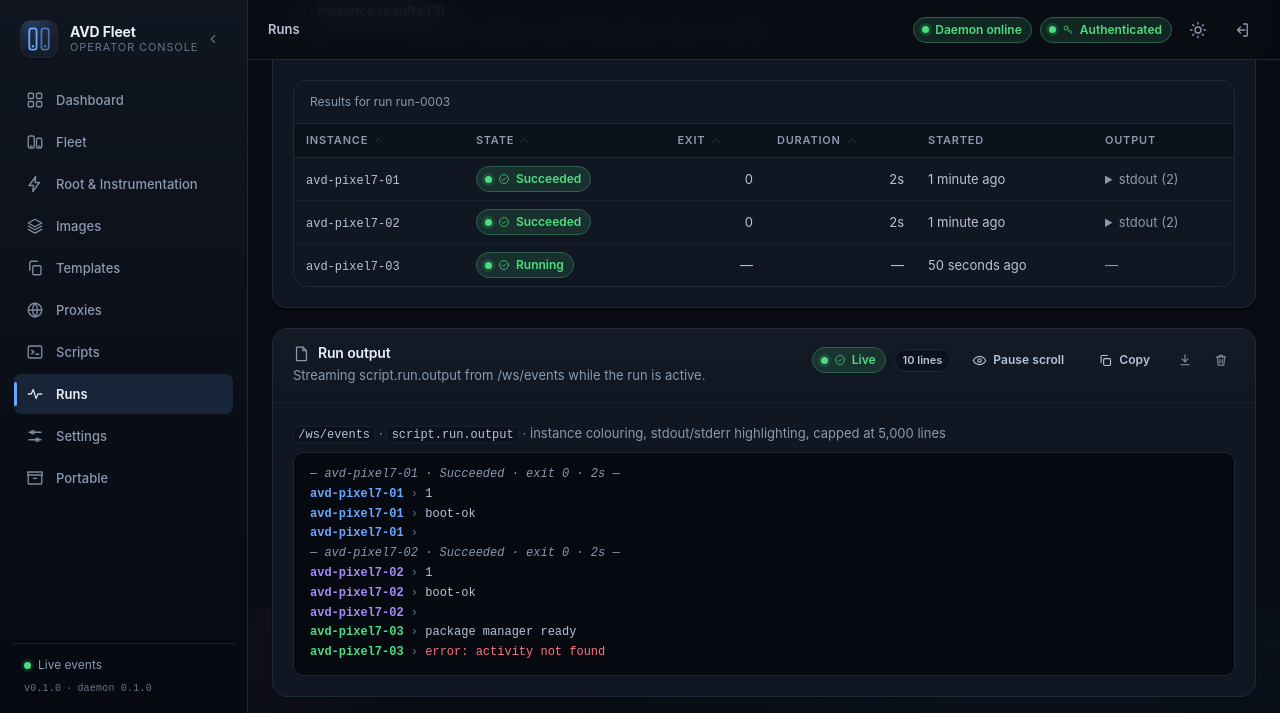
Runs page › appends live script.run.output lines, pauses/clears, and cancels the run
Later steps or results of the test are not shown.
(page scrolled)
Check: the text "Live" is shown, box x1=852 y1=351 x2=876 y2=369
Check: the element named "run run-0003 output" shows "package manager ready", box x1=425 y1=625 x2=576 y2=639
Click the button "Pause scroll" at x=1018, y=360, box x1=959 y1=345 x2=1077 y2=375
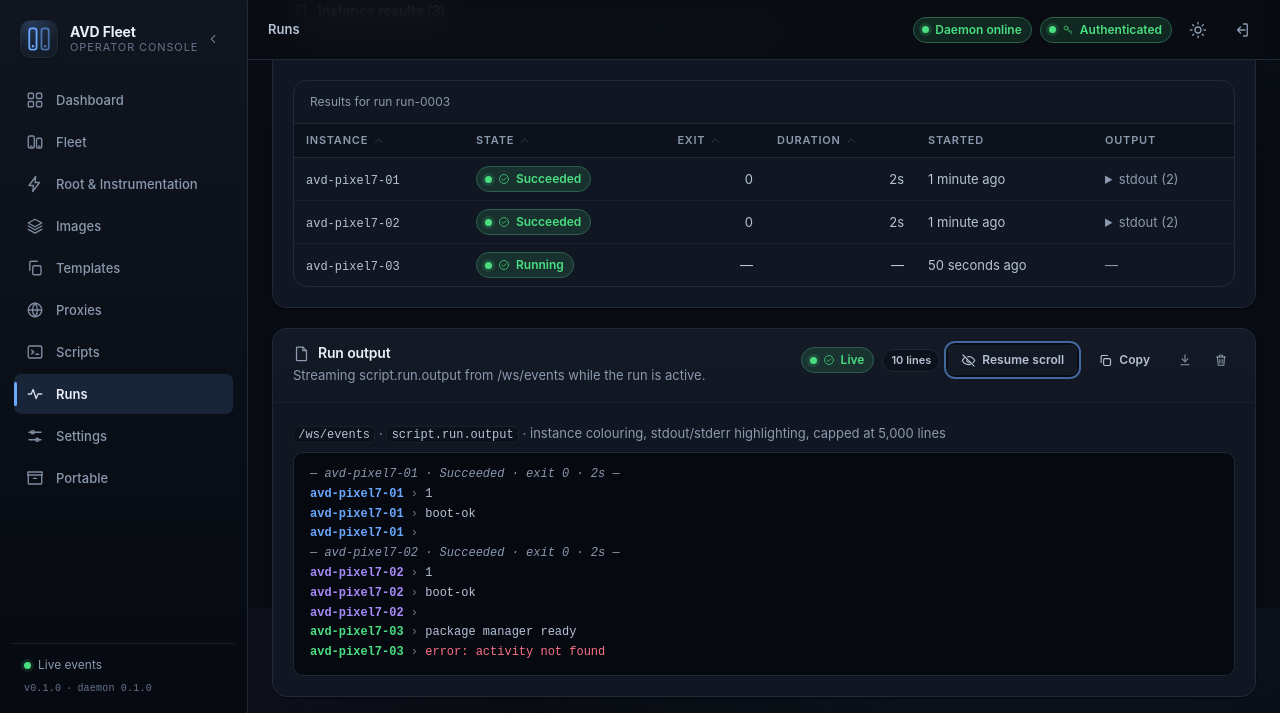
Check: the button "Resume scroll" is shown
Click the button "Resume scroll" at x=1013, y=360, box x1=948 y1=345 x2=1077 y2=375
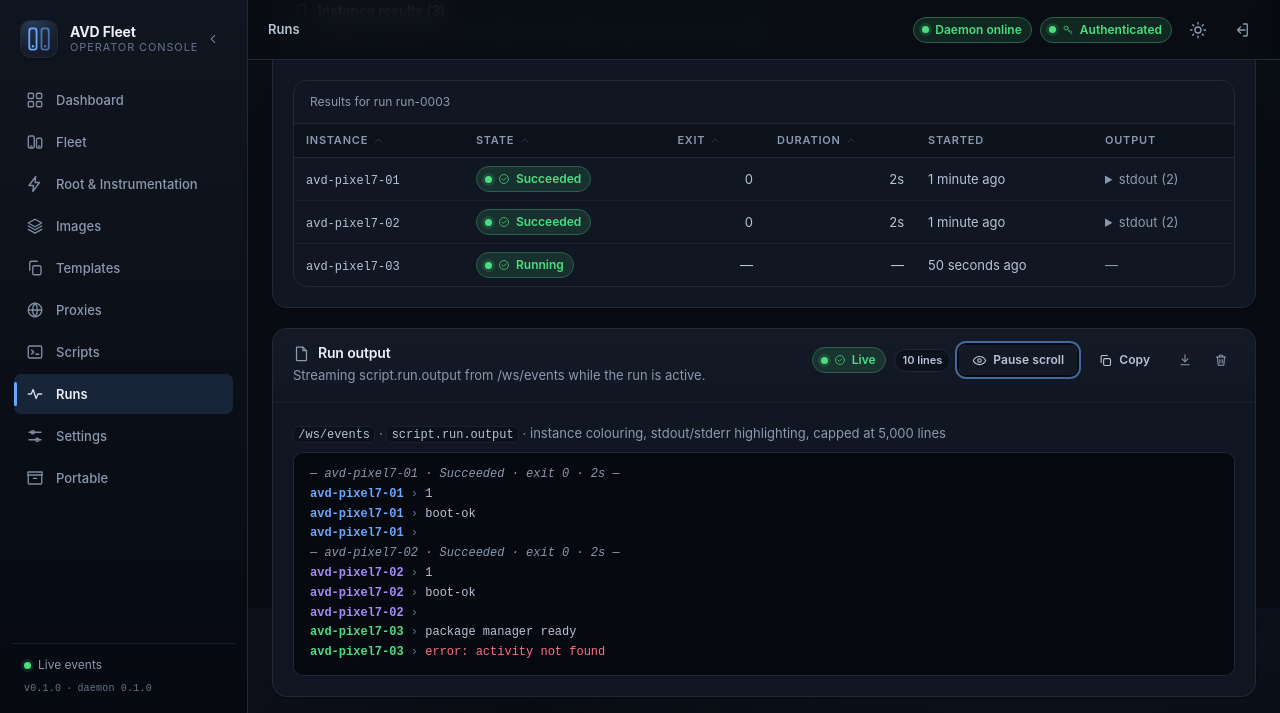
Click the button named "Clear run output" at x=1221, y=360, box x1=1207 y1=346 x2=1235 y2=374
(page scrolled)
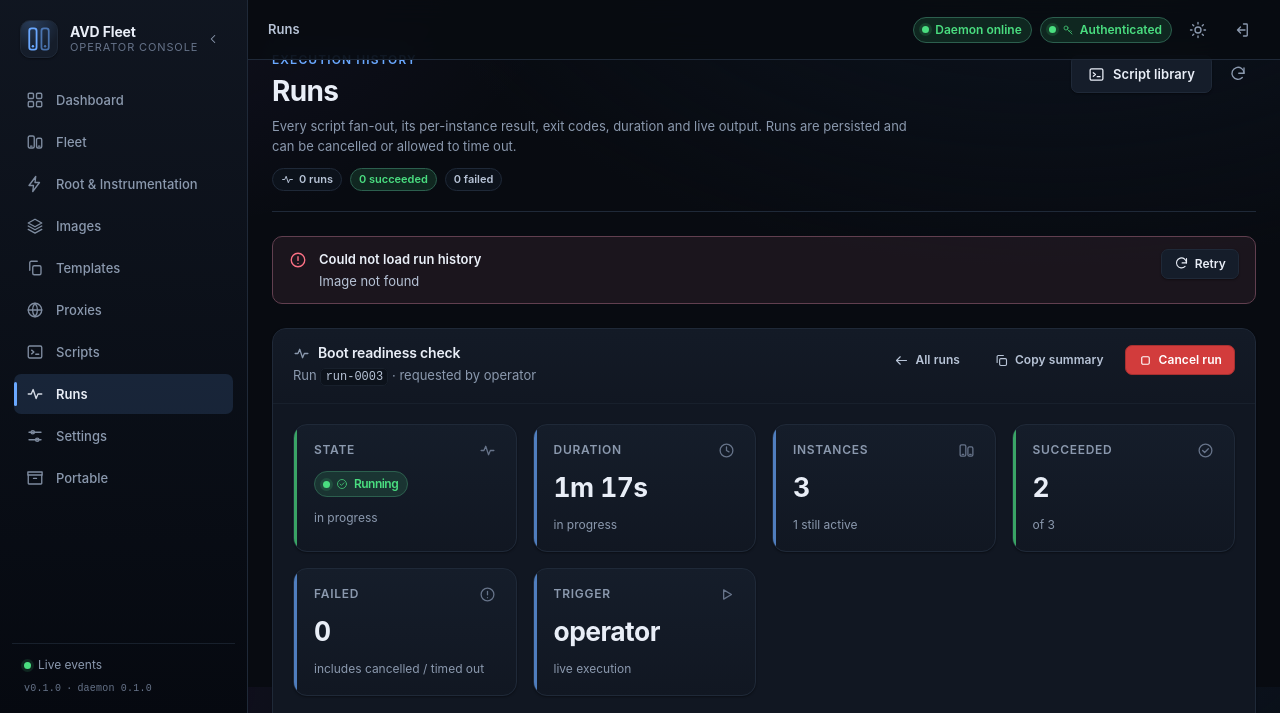
Click the button "Cancel run" at x=1180, y=360, box x1=1125 y1=345 x2=1235 y2=375
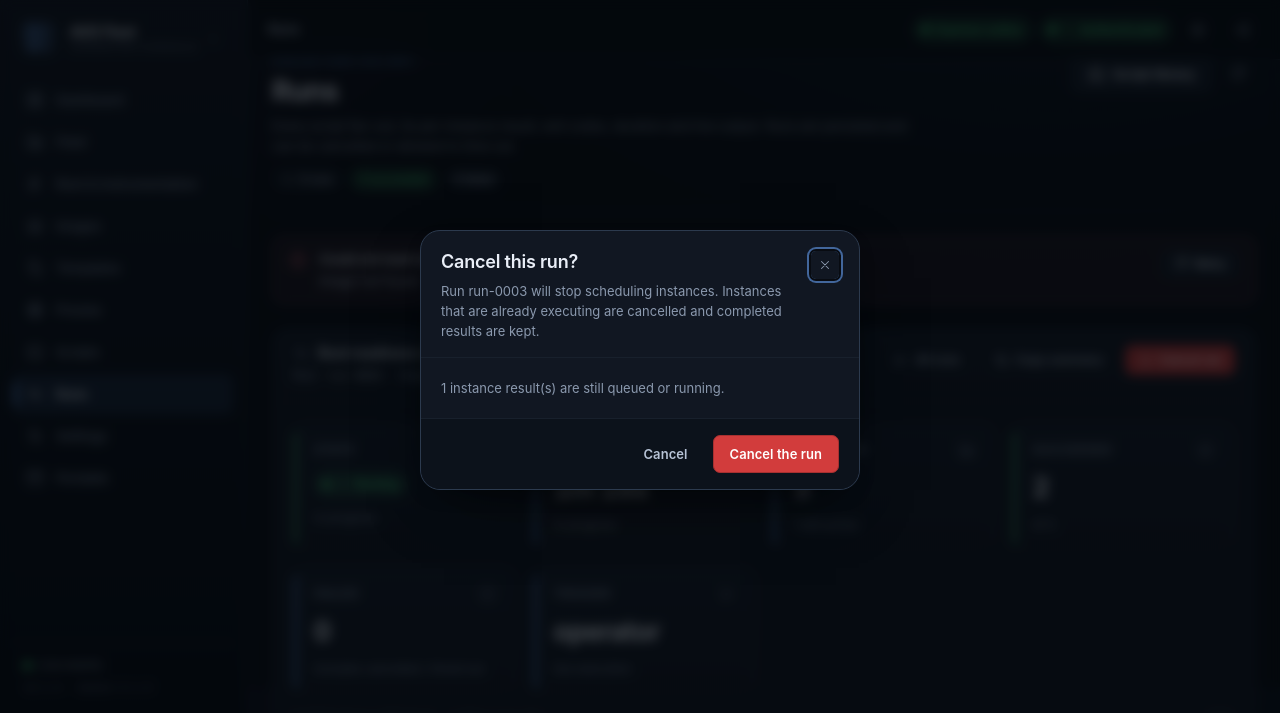
Check: the text "stop scheduling instances" is shown, box x1=441 y1=282 x2=782 y2=339
Click the button "Cancel the run" at x=776, y=454, box x1=712 y1=435 x2=839 y2=473
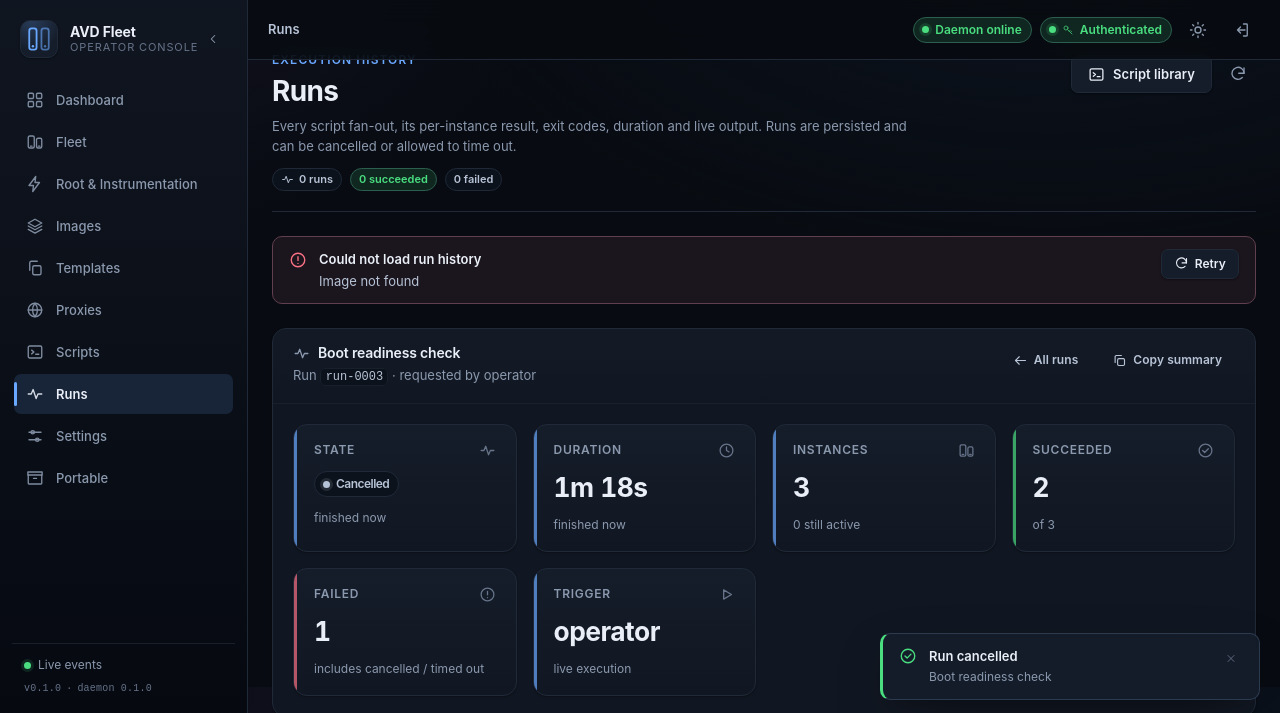
Check: the text "Run cancelled" is shown, box x1=929 y1=648 x2=1018 y2=664
Check: the text "Cancelled" is shown, box x1=336 y1=475 x2=389 y2=493
Check: the button "Cancel run" is gone
